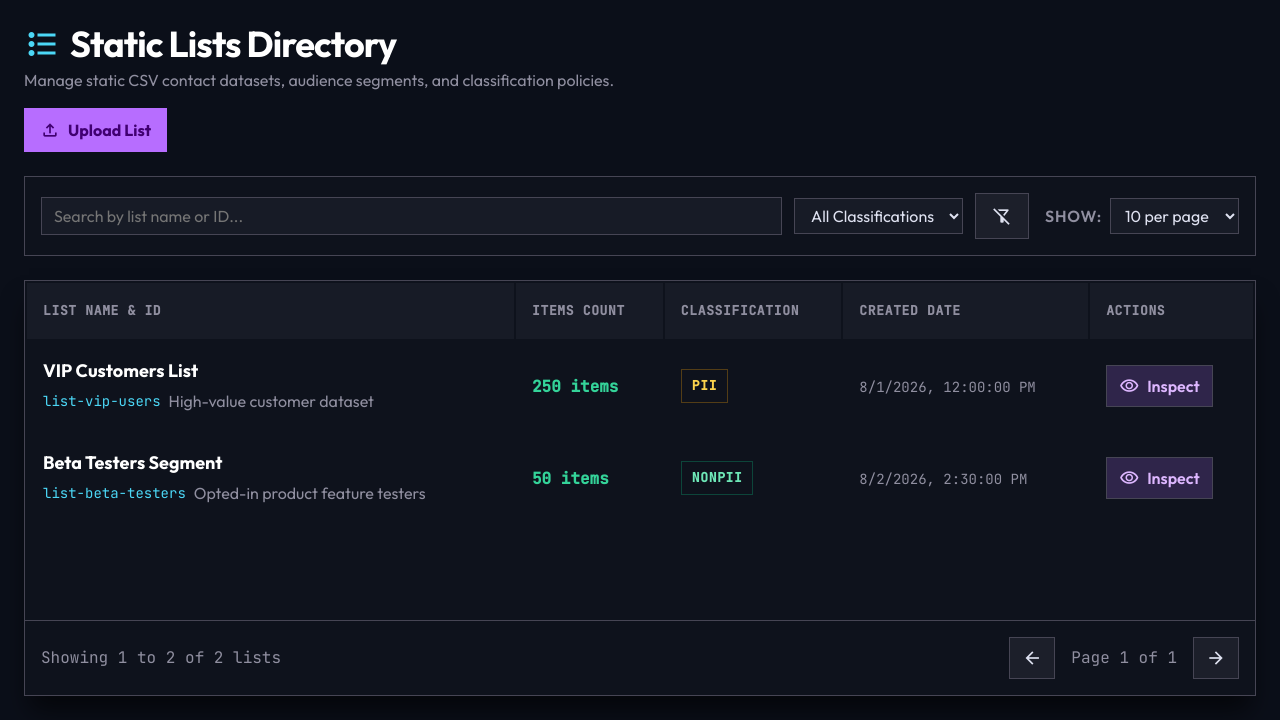
Test: StaticListsPage Component › opens item inspect modal when inspect button is clicked
The width and height of the screenshot is (1280, 720).
Click the button with test id "inspect-static-list-list-vip-users".
click(1159, 386)  # box left=1106, top=365, right=1213, bottom=407
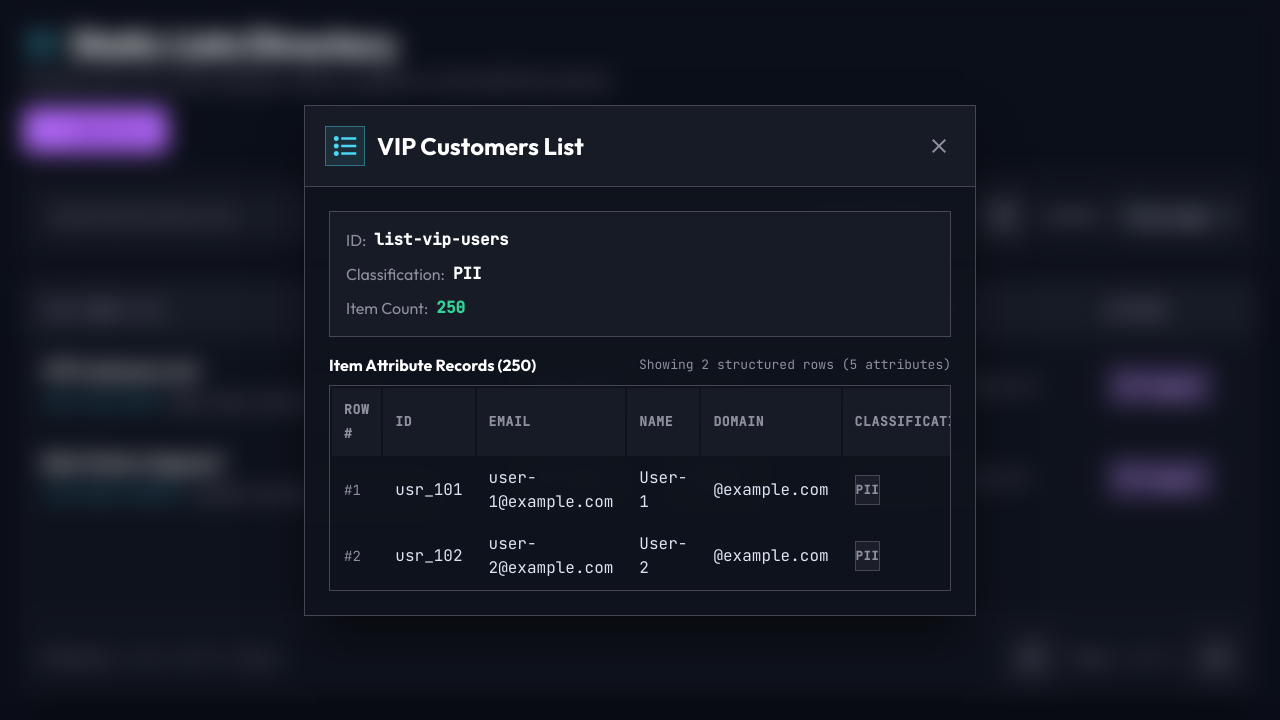
Now the dialog with test id "static-list-inspect-modal" is shown, box left=304, top=104, right=976, bottom=616
Now the text "user-1@example.com" is shown, box left=477, top=458, right=625, bottom=522
